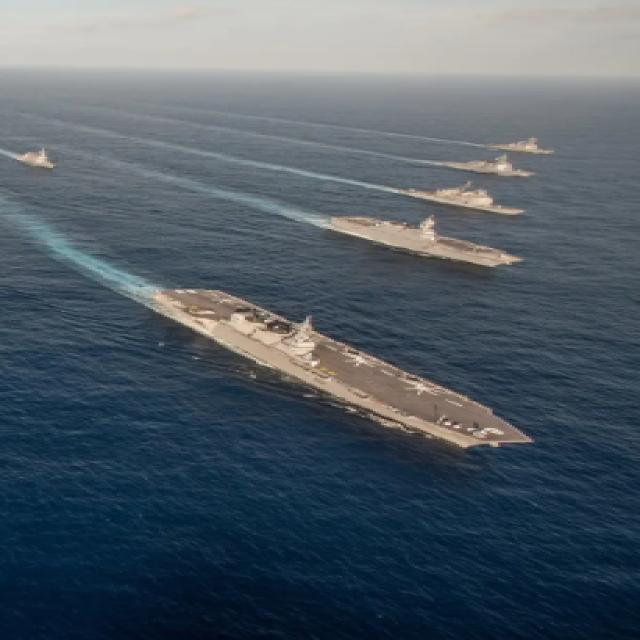navalvessels: (135, 274, 535, 452), (314, 201, 505, 281), (408, 177, 508, 213), (0, 134, 79, 171), (440, 154, 521, 185), (502, 137, 554, 160)
